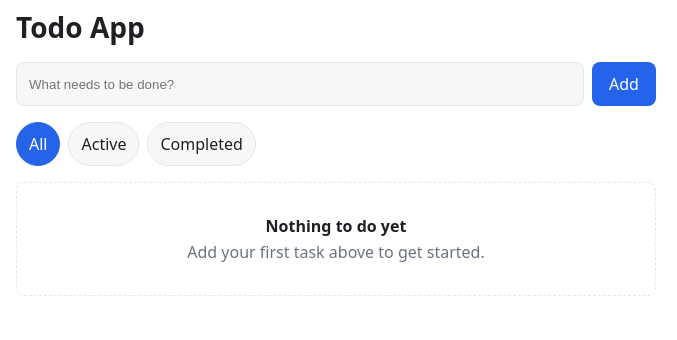
it: App › shows an inline error when the title is empty
Expected: the text "Nothing to do yet" is shown, [266,215,406,237]
Click the button with aria-label "add todo" at [624, 84], box [592,62,656,106]
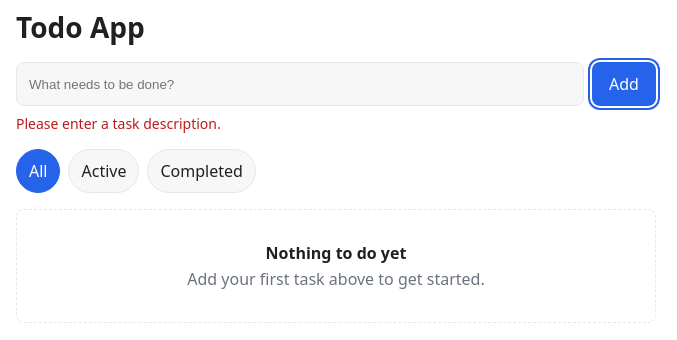
Expected: the text "Please enter a task description." is shown, [16,114,221,133]
